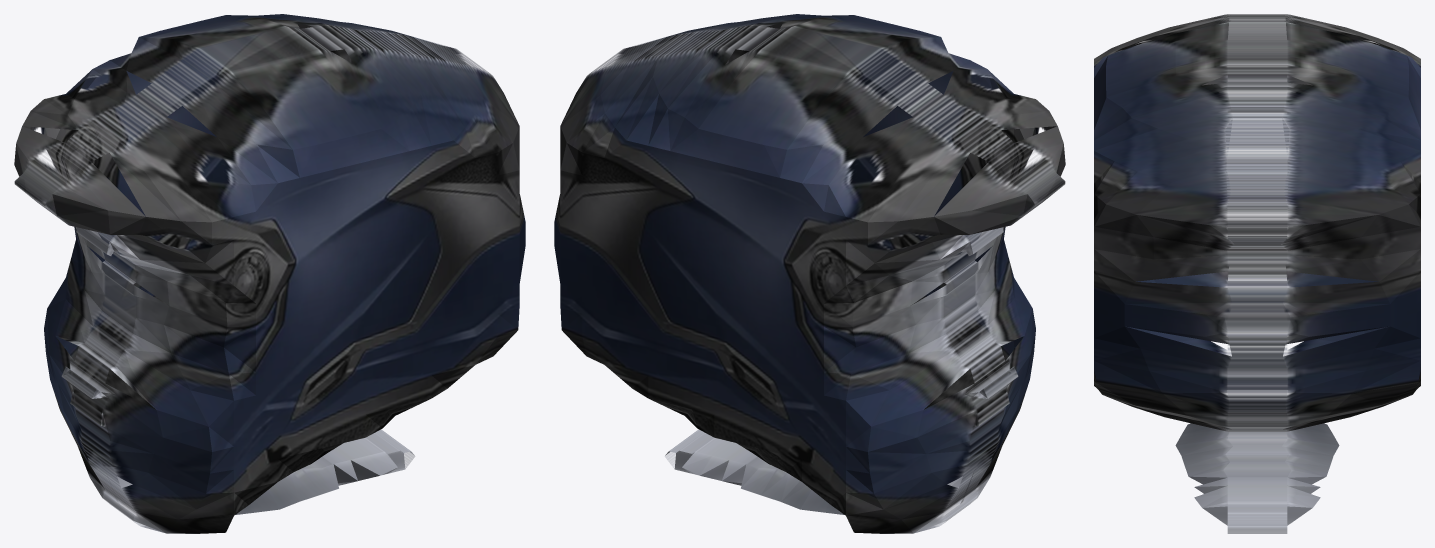
Rendered from rukka-vector-adventure-helmet-062.glb.
The picture shows the model from 3 angles, left to right: view 1: azimuth 30°, elevation 25°; view 2: azimuth 150°, elevation 25°; view 3: azimuth 270°, elevation 25°; orthographic projection. The views are drawn at different scales.
Parts seen in each view (by area): view 1: world; view 2: world; view 3: world.
Part boxes in pixels (box(x1,y1,x2,y2)): world: box(14, 14, 525, 533); world: box(554, 14, 1065, 533); world: box(1094, 14, 1420, 533).
Size of the model in its own units: 1 by 0.926 by 0.64.
1 material, 1 textured.
